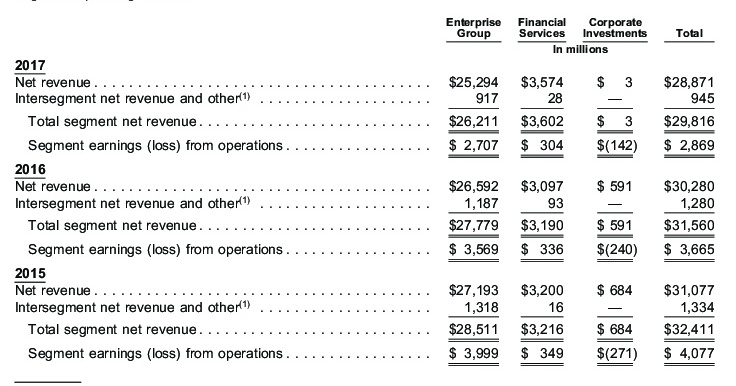table: (0, 0, 736, 386)
